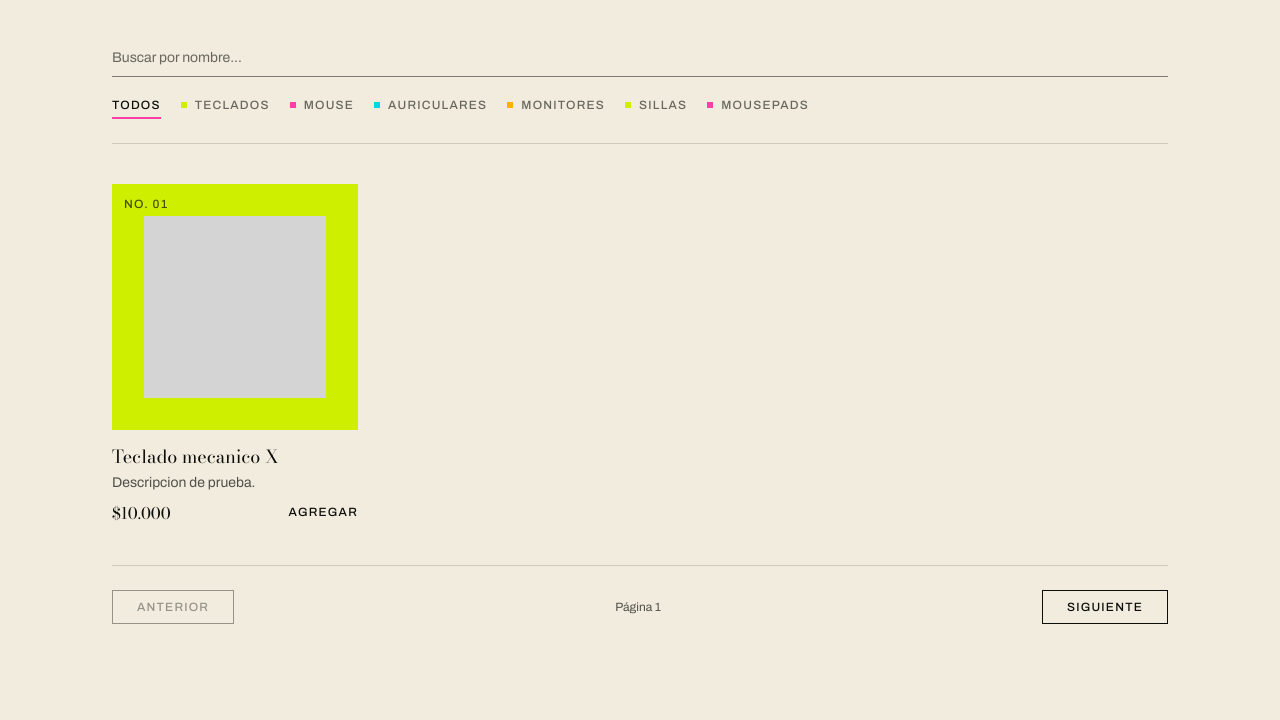
it: CatalogPage › siguiente avanza de pagina, y volver a la primera no repite la consulta
Expected: the heading "Teclado mecanico X" is shown, [112,443,278,470]
Expected: the button "Anterior" is disabled, [112,590,234,624]
Click the button "Siguiente" at (1105, 606), box [1042,590,1168,624]
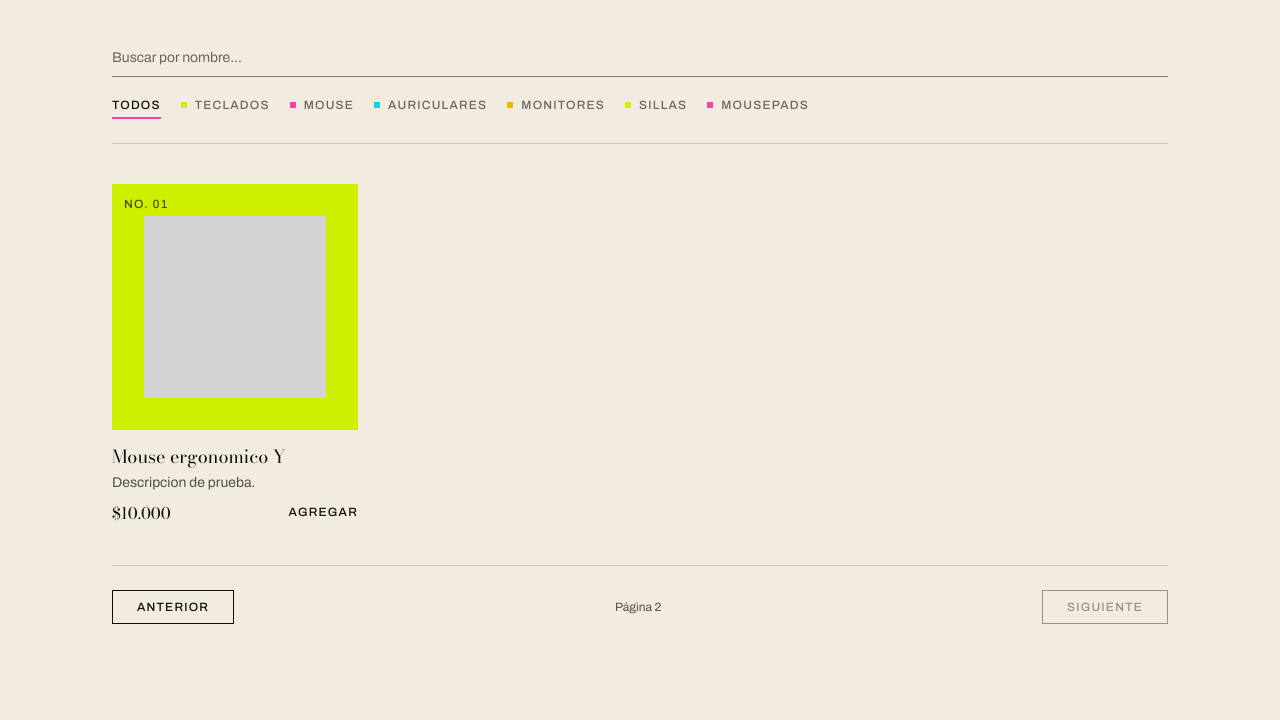
Expected: the heading "Mouse ergonomico Y" is shown, [112,443,286,470]
Expected: the button "Siguiente" is disabled, [1042,590,1168,624]
Click the button "Anterior" at (173, 606), box [112,590,234,624]
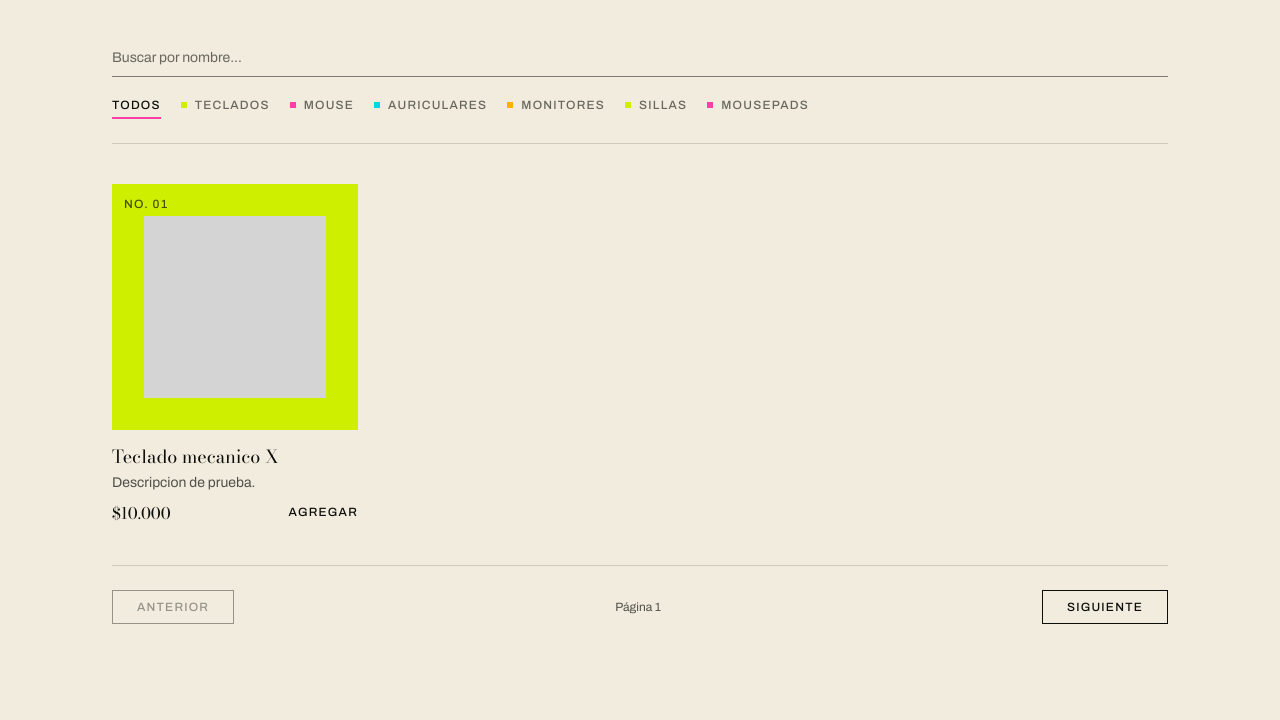
Expected: the heading "Teclado mecanico X" is shown, [112,443,278,470]
